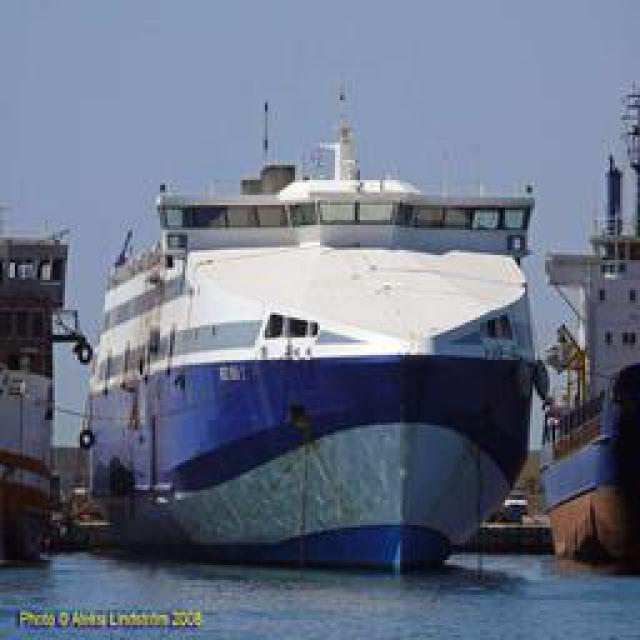Ship: (74, 162, 554, 555)
